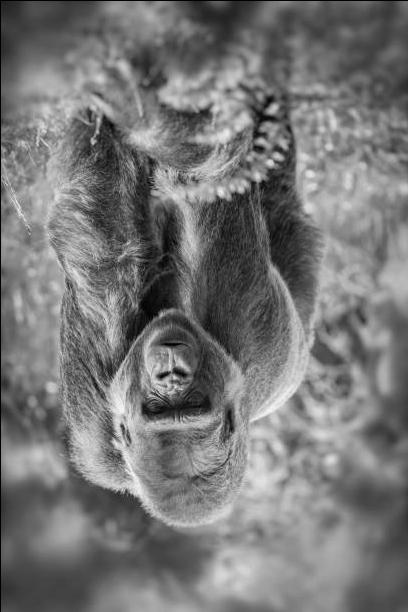gorille_Autres: (10, 48, 322, 546)
